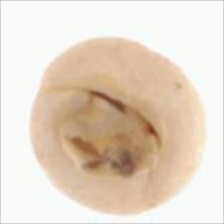L3: (60, 87, 163, 181)
L4: (29, 38, 206, 215)
